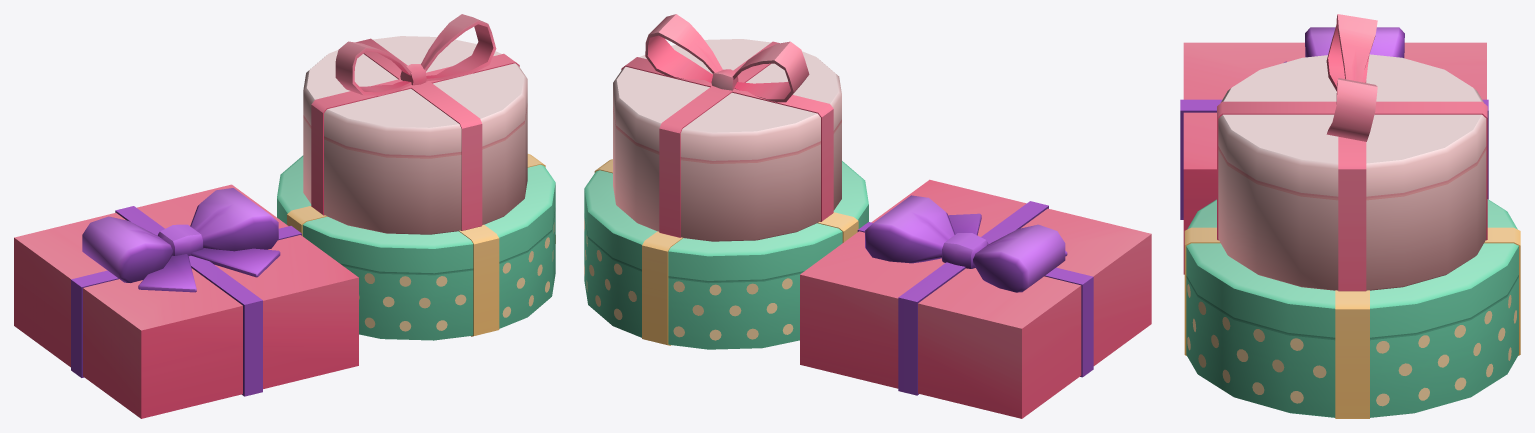
Rendered from Doll_OB_Box_001.FBX.
The picture shows the model from 3 angles, left to right: view 1: azimuth 30°, elevation 25°; view 2: azimuth 150°, elevation 25°; view 3: azimuth 270°, elevation 25°; orthographic projection. The views are drawn at different scales.
Visible parts, largest first — view 1: Doll_OB_Box_001; view 2: Doll_OB_Box_001; view 3: Doll_OB_Box_001.
Part boxes in pixels (left/top/right/bottom): Doll_OB_Box_001: left=14, top=14, right=555, bottom=418; Doll_OB_Box_001: left=584, top=14, right=1151, bottom=418; Doll_OB_Box_001: left=1180, top=14, right=1520, bottom=418.
Bounding box in the file's own units: 51.98 × 27.01 × 27.37.
